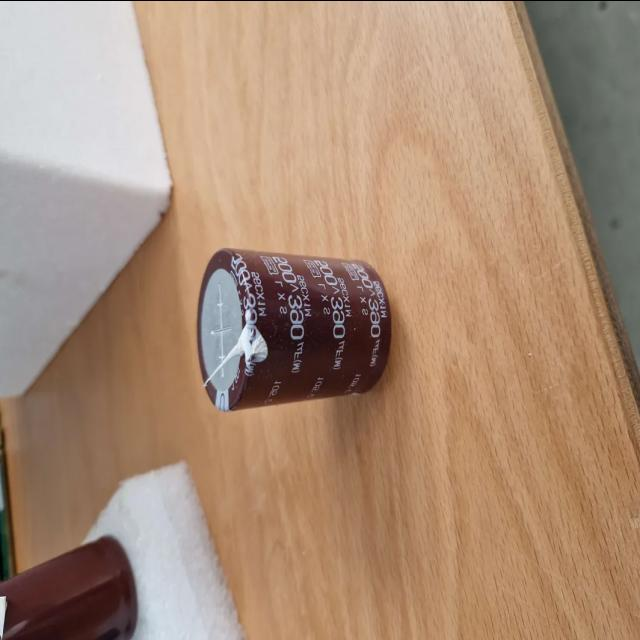C: (198, 248, 390, 410), (0, 536, 137, 640)
